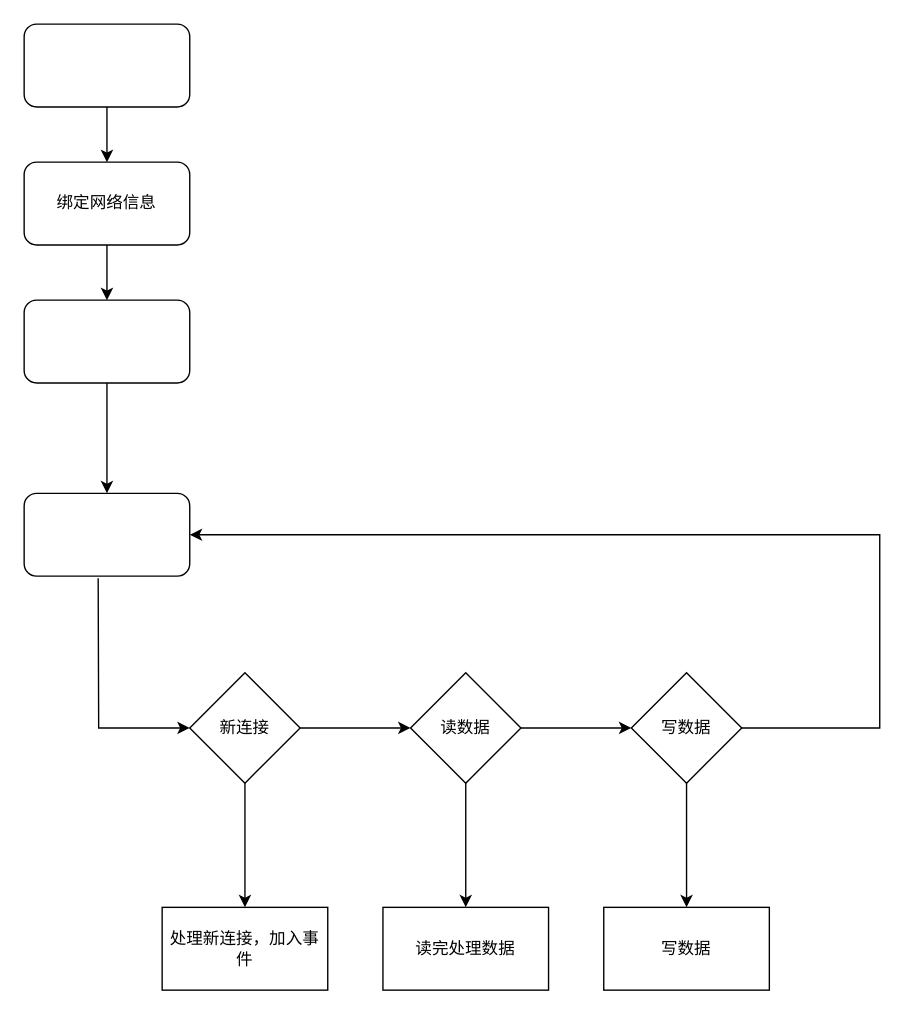
Image size: 915x1014. Some labels were removed from this diagram. The shapes that lost their labels are listed below. From the top down, each one's centre as x and y in pixels, then its label:
At point 106,65: "线程池创建，数据库连接池创建".
At point 106,341: "监听加入事件".
At point 106,534: "开始检测事件".
